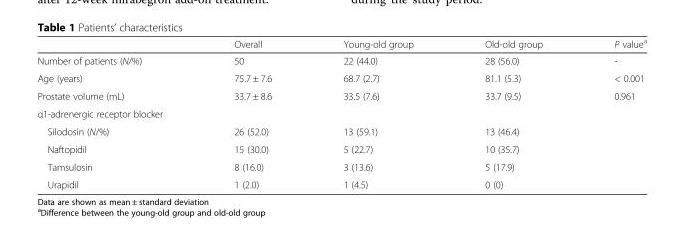table: (36, 36, 646, 189)
table column: (36, 36, 197, 189), (306, 36, 448, 189), (448, 36, 577, 189), (197, 36, 306, 189), (577, 36, 646, 189)
table column header: (36, 36, 646, 51)
table projected row header: (36, 104, 646, 122)
table row: (36, 51, 646, 69), (36, 86, 646, 104), (36, 104, 646, 122), (36, 139, 646, 157), (36, 157, 646, 175), (36, 69, 646, 86), (36, 122, 646, 139), (36, 36, 646, 51), (36, 175, 646, 189)
